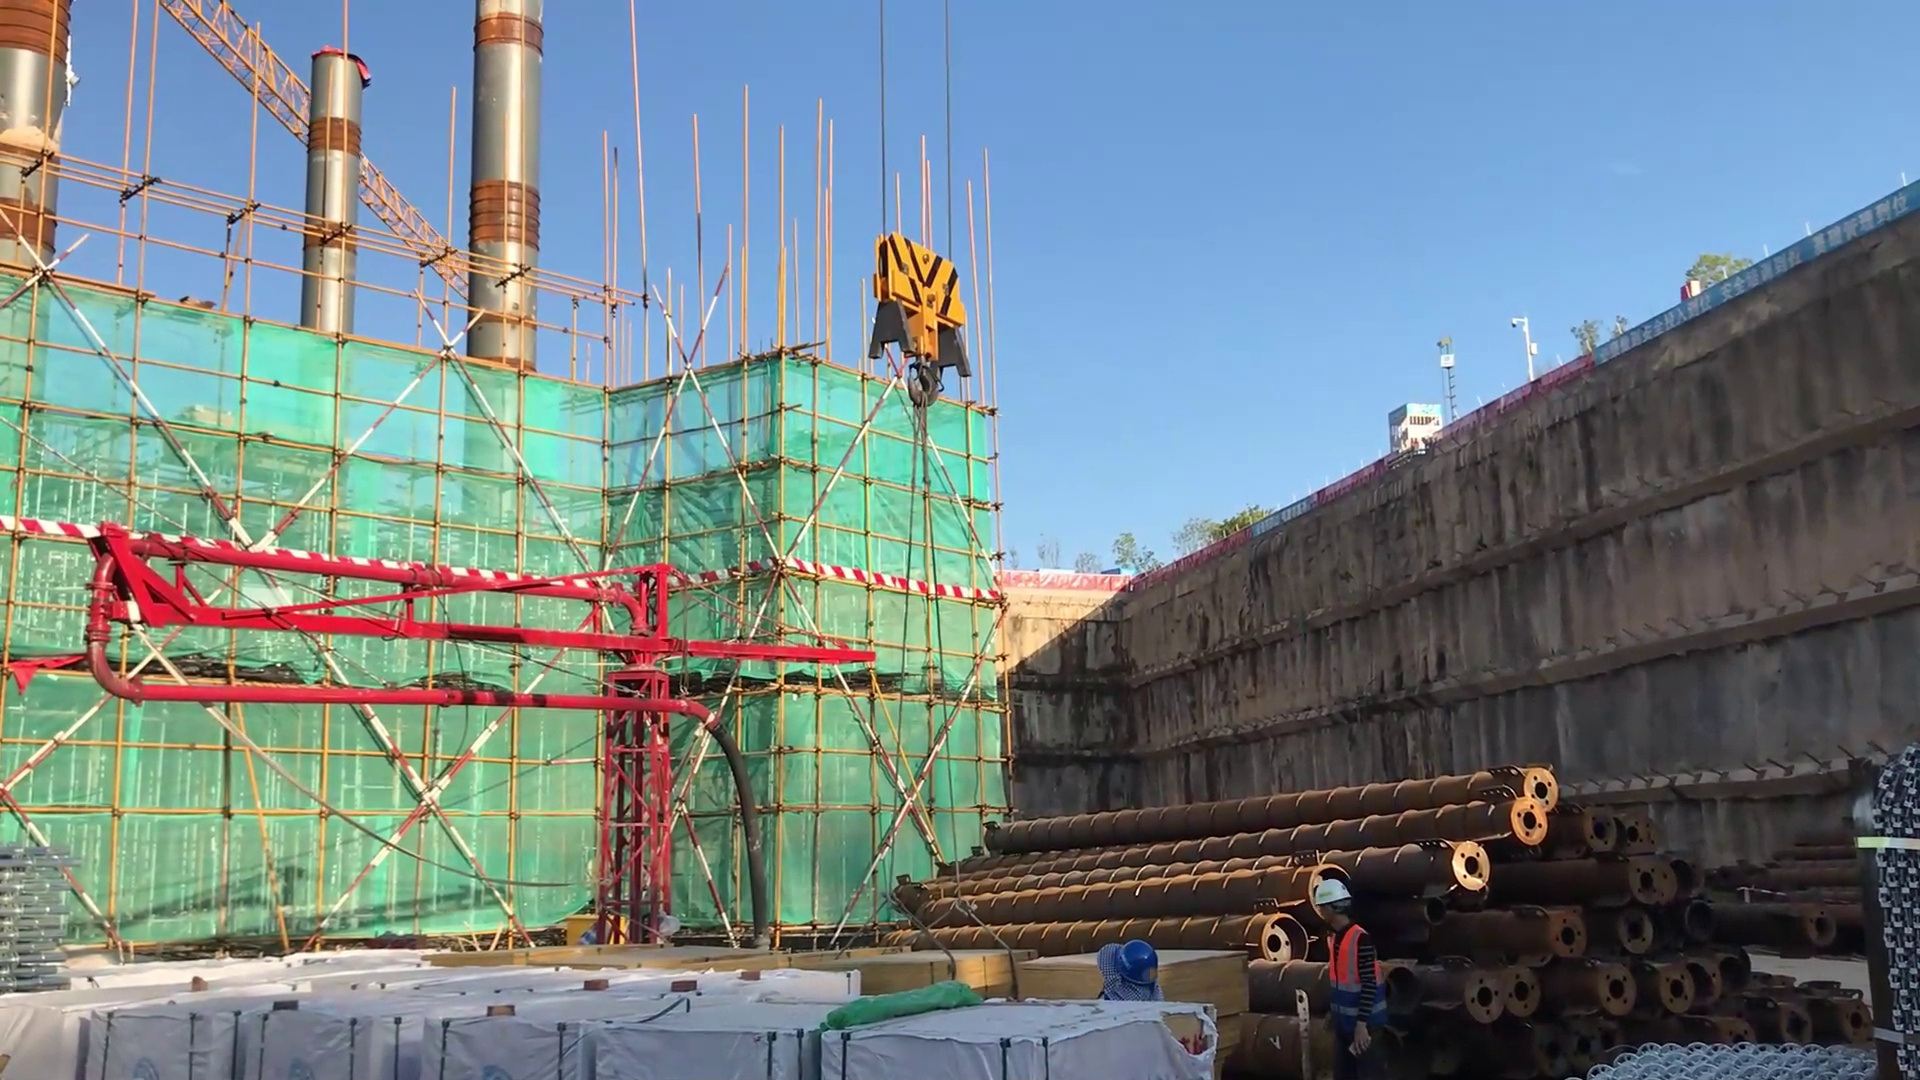board: (1013, 949, 1258, 1018), (817, 940, 1010, 1003)
ebox: (563, 909, 634, 949)
helmet: (1100, 937, 1166, 1004), (1305, 877, 1362, 930)
hook: (862, 228, 981, 427)
person: (1297, 874, 1400, 1080)
scaffold: (1862, 738, 1920, 1060), (1, 835, 90, 994)
slogan: (1586, 155, 1920, 373), (1234, 491, 1322, 553)
vest: (1320, 923, 1385, 1051)
